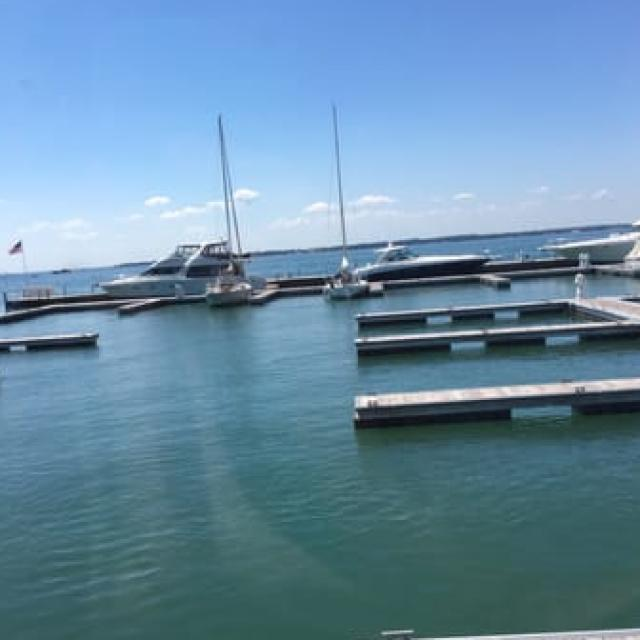houseboat: (94, 234, 255, 296), (348, 234, 486, 283), (535, 202, 640, 263)
